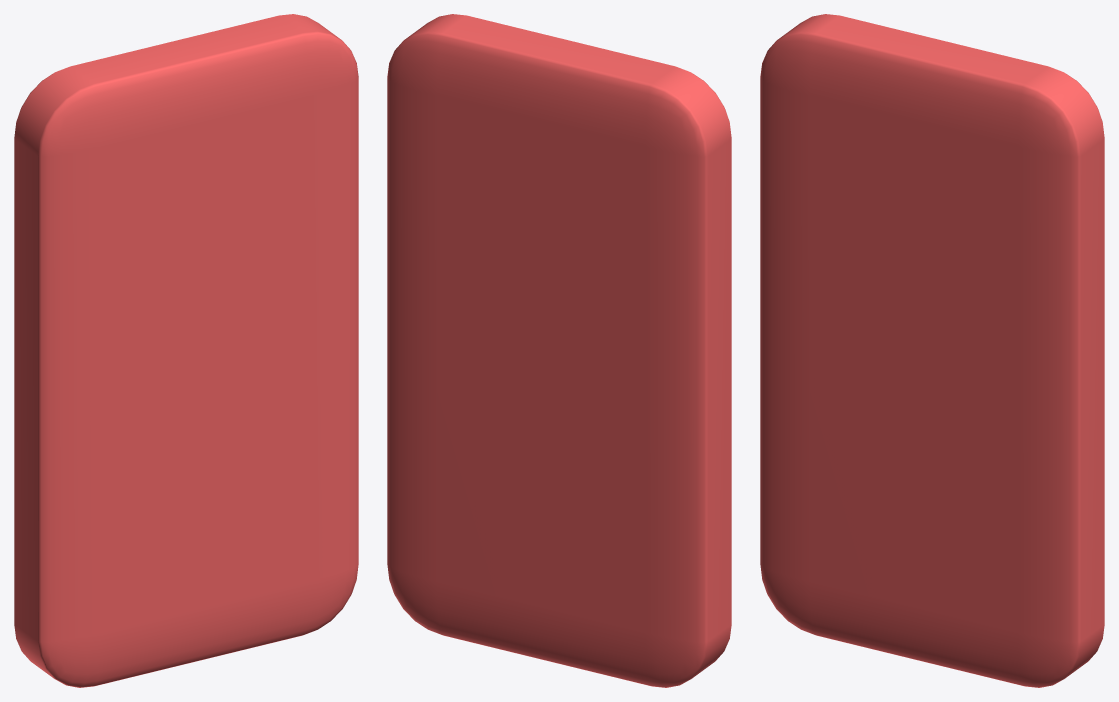
The picture shows the model from 3 angles, left to right: view 1: azimuth 30°, elevation 25°; view 2: azimuth 150°, elevation 25°; view 3: azimuth 330°, elevation 25°; orthographic projection.
Visible parts, largest first — view 1: box2_high; view 2: box2_high; view 3: box2_high.
Part boxes in pixels (box(x1,y1,x2,y2)): box2_high: box(14, 14, 358, 687); box2_high: box(387, 14, 731, 687); box2_high: box(760, 14, 1104, 687).
Bounding box in the file's own units: 0.8443 × 1.52 × 0.1664.
